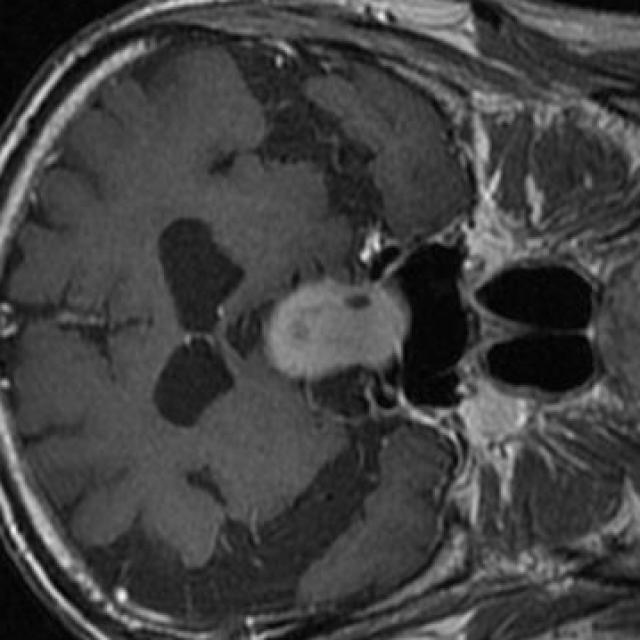pituitary: (269, 282, 406, 378)
